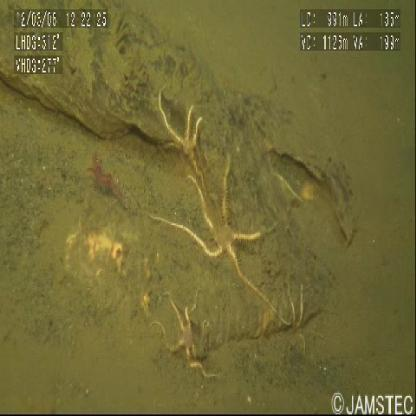Rác: (2, 6, 356, 362)
